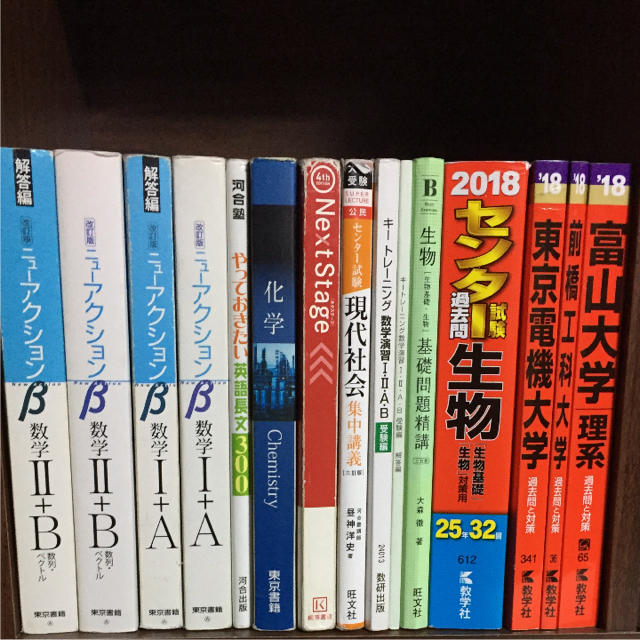book: (439, 156, 522, 634), (122, 149, 185, 631), (172, 148, 230, 635), (245, 151, 299, 633), (296, 152, 338, 636), (369, 153, 408, 634), (336, 155, 371, 635), (224, 158, 257, 632), (410, 150, 438, 638)
